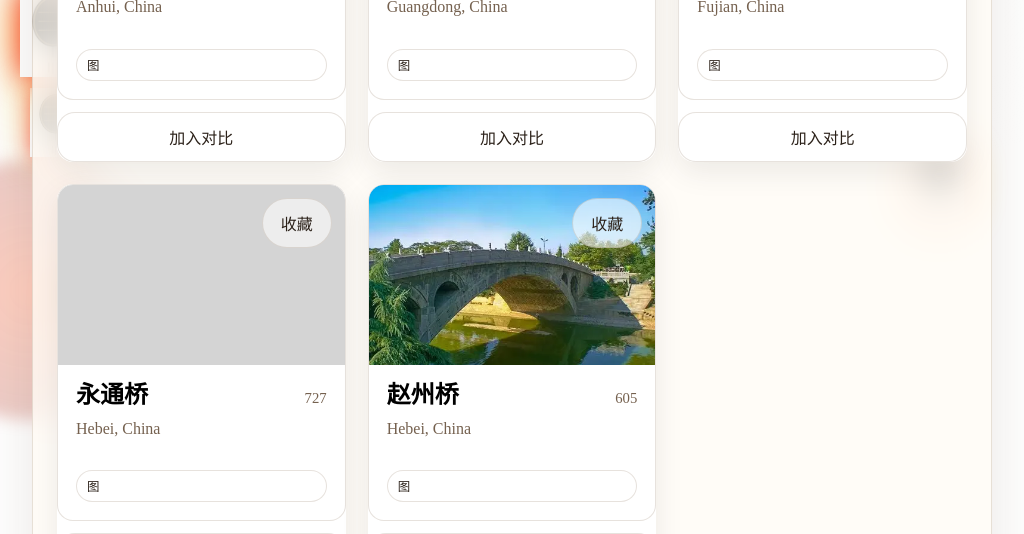
it: returns to explore view from detail navigation
(page scrolled)
What coordinates should you click on to do the following:
click the button named "zhaozhou bridge"
I would click on:
 (512, 353)
Its box is 368,184 -> 656,521.
(page scrolled)
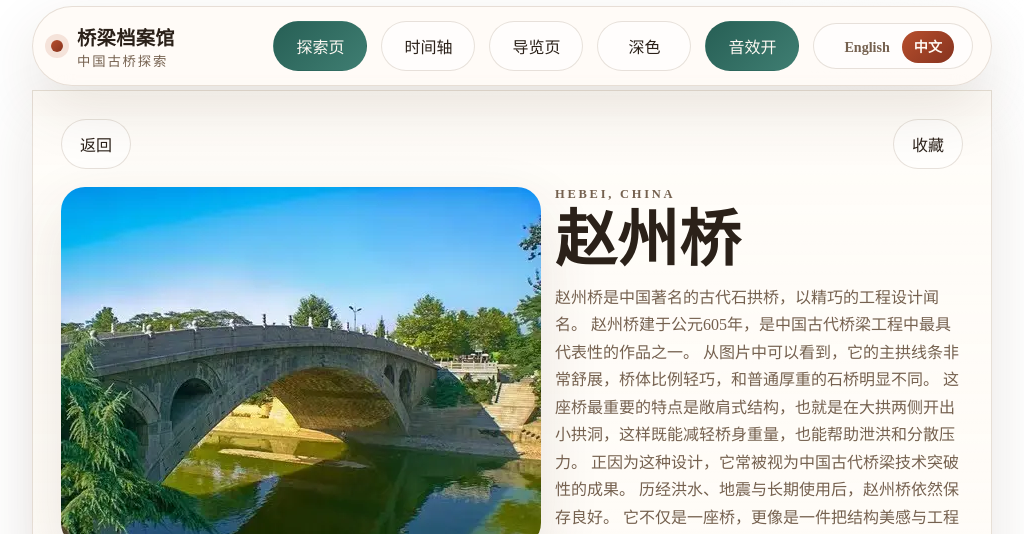
What coordinates should you click on to do the following:
click the button "探索页"
I would click on:
 (320, 46)
Its box is 273,21 -> 367,71.
(page scrolled)
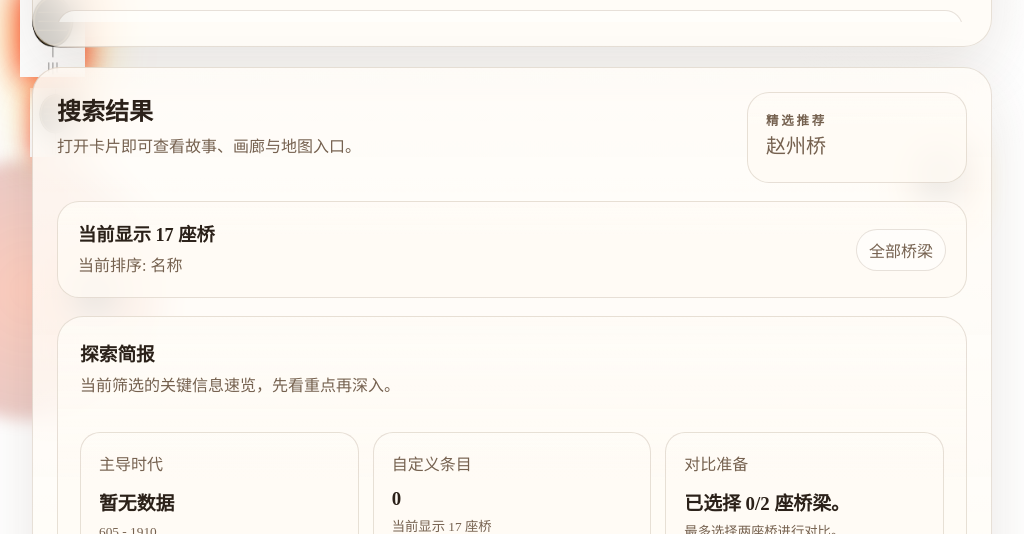
Expected: the heading "探索简报" is shown, 80,344 -> 155,365
